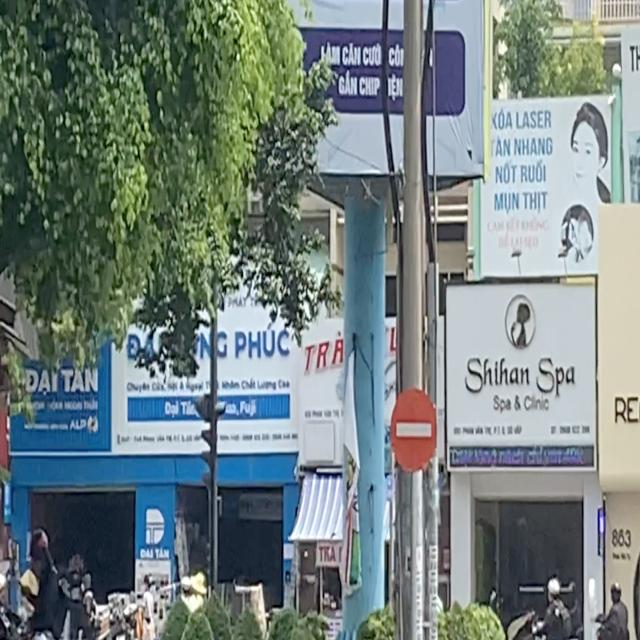Cam nguoc chieu: (390, 387, 438, 473)
